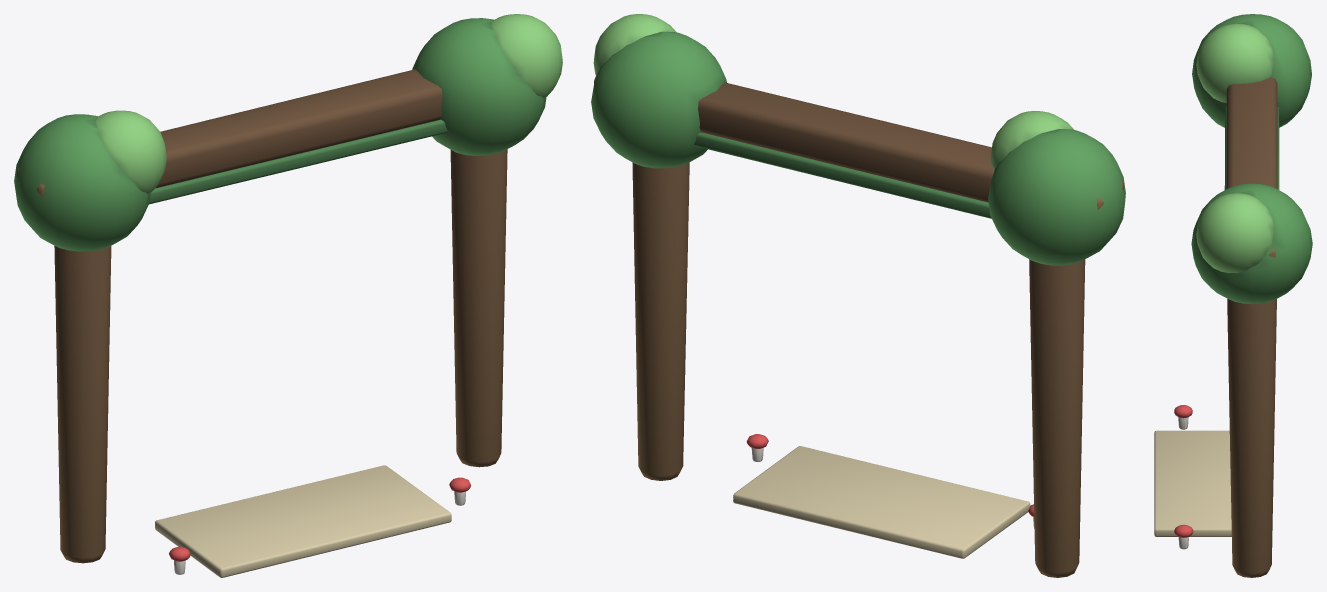
3 views of the same model, side by side, from view 1: azimuth 30°, elevation 25°; view 2: azimuth 150°, elevation 25°; view 3: azimuth 270°, elevation 25° (orthographic). The views are drawn at different scales.
Visible parts, largest first — view 1: gate_9257d174; view 2: gate_9257d174; view 3: gate_9257d174.
Part boxes in pixels (left/top/right/bottom): gate_9257d174: left=14, top=14, right=562, bottom=577; gate_9257d174: left=591, top=14, right=1125, bottom=577; gate_9257d174: left=1154, top=14, right=1312, bottom=577.
Bounding box in the file's own units: 5.44 × 4.39 × 1.62.
